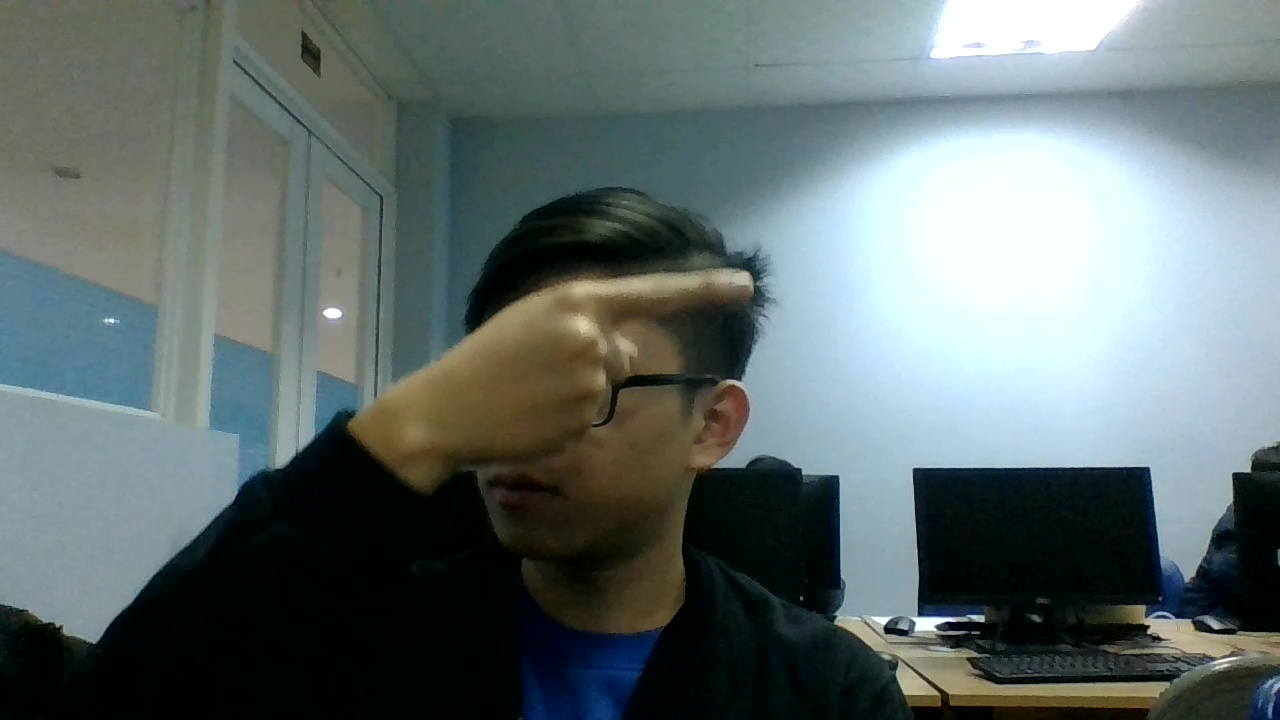left: (418, 263, 759, 461)
